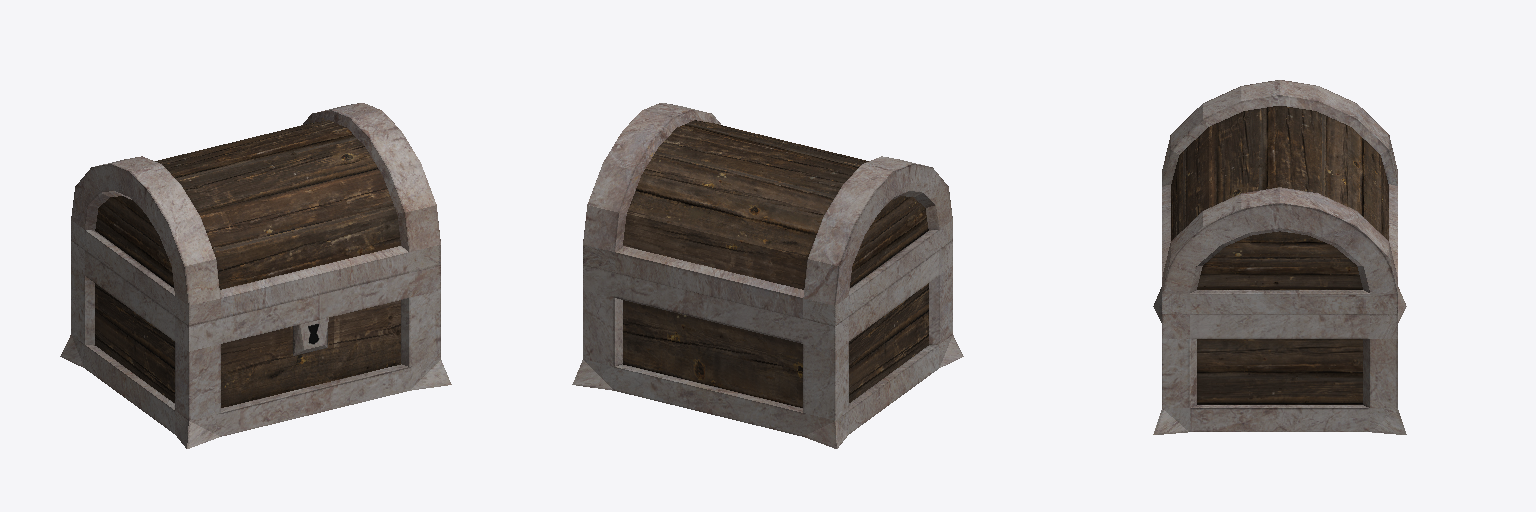
3 views of the same model, side by side, from view 1: azimuth 30°, elevation 25°; view 2: azimuth 150°, elevation 25°; view 3: azimuth 270°, elevation 25° (orthographic).
Parts seen in each view (by area): view 1: Chest_top_Plane.002, Chest_bot_Plane.009; view 2: Chest_top_Plane.002, Chest_bot_Plane.009; view 3: Chest_top_Plane.002, Chest_bot_Plane.009.
Boxes of the visible parts, x1,y1,x2,y2 form: Chest_top_Plane.002: [71, 103, 440, 325]; Chest_bot_Plane.009: [60, 241, 451, 448]; Chest_top_Plane.002: [583, 103, 952, 325]; Chest_bot_Plane.009: [572, 241, 963, 448]; Chest_top_Plane.002: [1162, 80, 1397, 313]; Chest_bot_Plane.009: [1153, 287, 1406, 434].
Size of the model in its own units: 76 by 63.01 by 63.08.
1 materials, 1 textured.